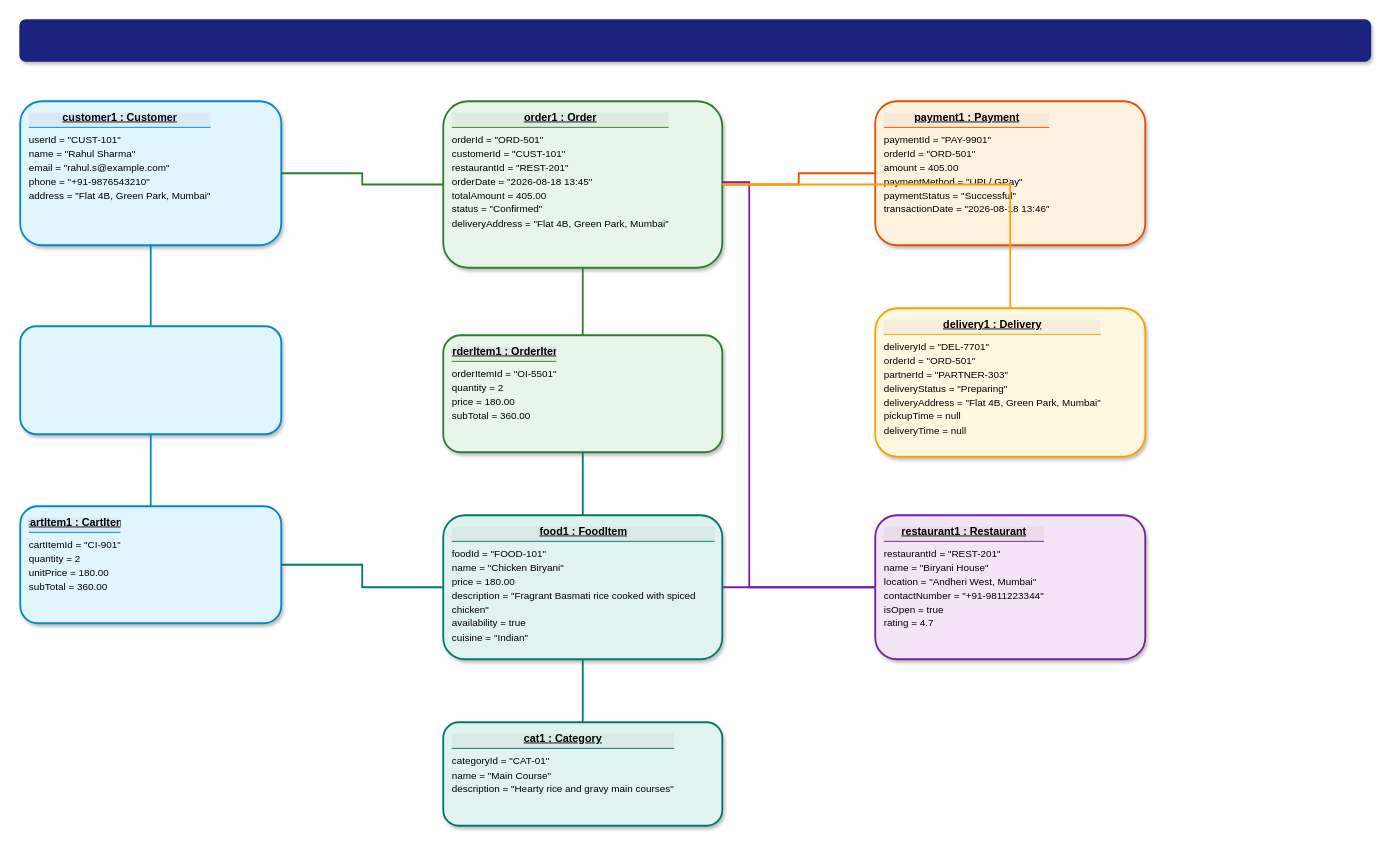
The diagram is 1391 pixels wide and 848 high, and some of its shapes have lost their labels. Here are the shapes that lost their labels. From the top down, the centre of each, then its label:
point 695,41: ONLINE FOOD ORDERING SYSTEM — UML OBJECT DIAGRAM (ACTIVE ORDER SNAPSHOT)
point 151,381: cart1 : Cart cartId = "CART-8821" restaurantId = "REST-201" totalAmount = 360.00
